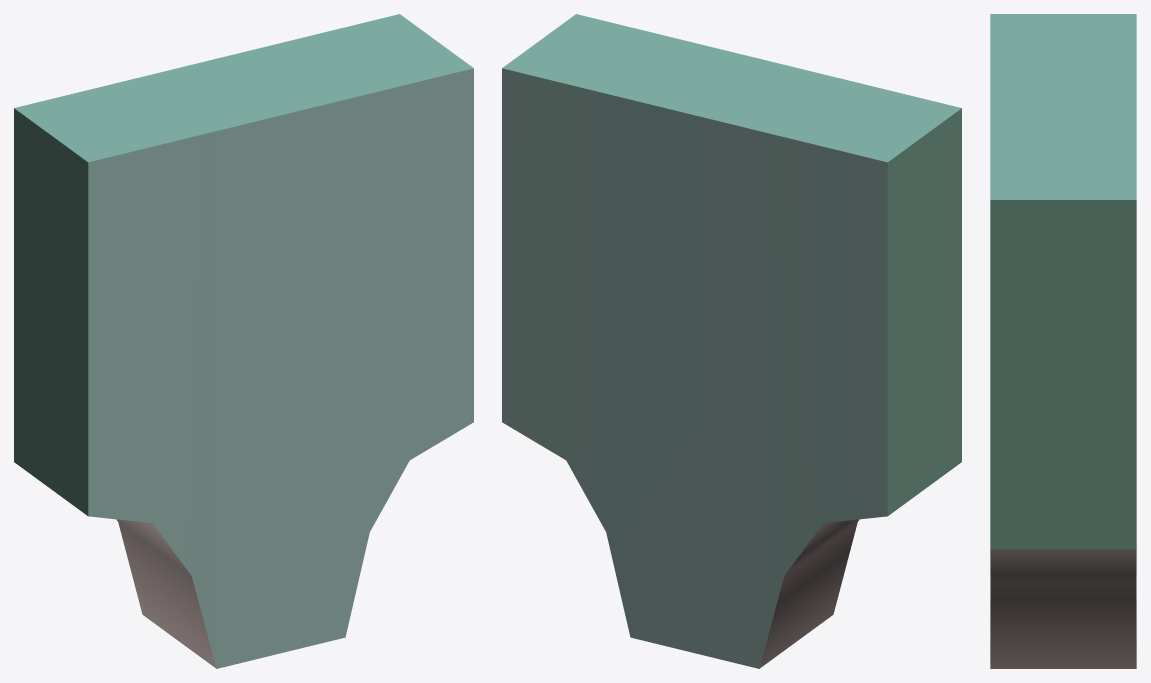
Rendered from SM_Arche1x1.FBX.
The picture shows the model from 3 angles, left to right: view 1: azimuth 30°, elevation 25°; view 2: azimuth 150°, elevation 25°; view 3: azimuth 270°, elevation 25°; orthographic projection.
Parts seen in each view (by area): view 1: SM_Arche1x1; view 2: SM_Arche1x1; view 3: SM_Arche1x1.
Part boxes in pixels (x1,y1,x2,y2): SM_Arche1x1: (14, 14, 473, 668); SM_Arche1x1: (502, 14, 961, 668); SM_Arche1x1: (990, 14, 1136, 668).
Size of the model in its own units: 75.06 by 100 by 25.
